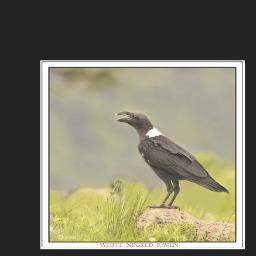Crow: (114, 110, 231, 211)
